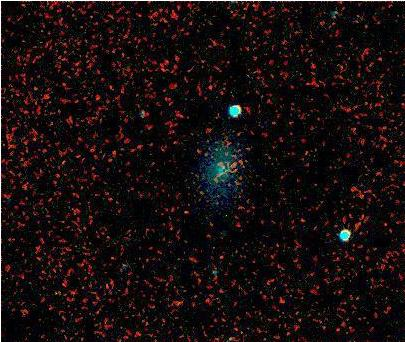star: (167, 197, 197, 227)
